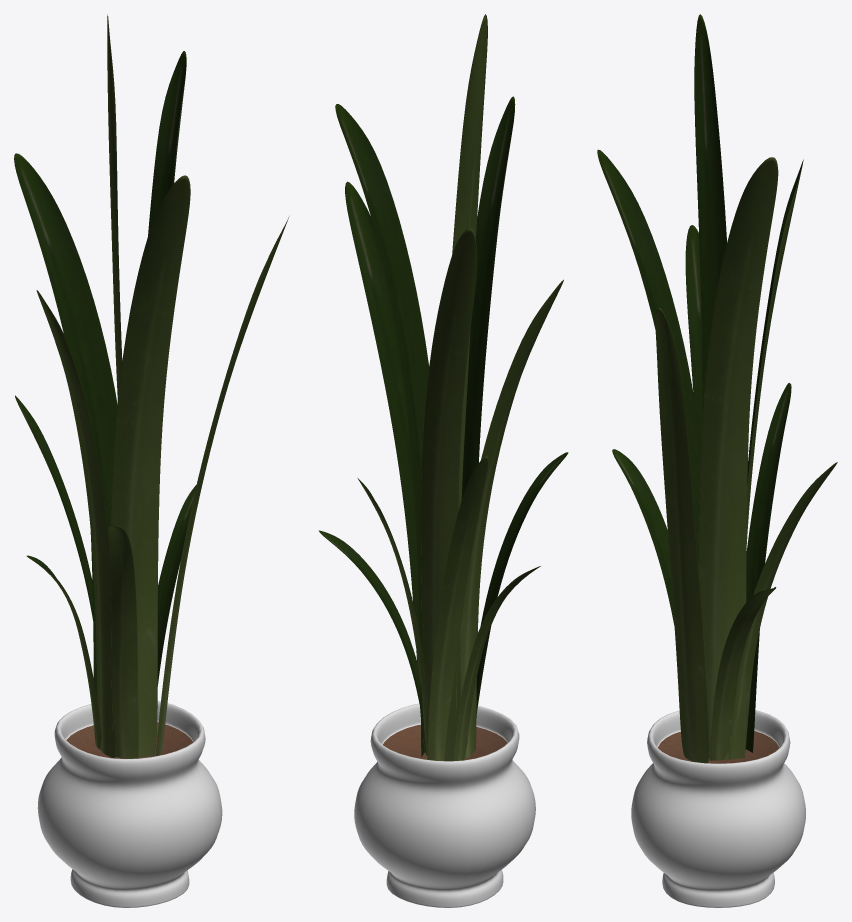
File: plant_obj.obj
The picture shows the model from 3 angles, left to right: view 1: azimuth 30°, elevation 25°; view 2: azimuth 150°, elevation 25°; view 3: azimuth 270°, elevation 25°; orthographic projection. The views are drawn at different scales.
Parts seen in each view (by area): view 1: Plant_leafs_Plane.030, Plant_jar_Cube.001; view 2: Plant_leafs_Plane.030, Plant_jar_Cube.001; view 3: Plant_leafs_Plane.030, Plant_jar_Cube.001.
Part boxes in pixels (box(x1,y1,x2,y2)): Plant_leafs_Plane.030: box(14, 14, 289, 758); Plant_jar_Cube.001: box(37, 700, 222, 907); Plant_leafs_Plane.030: box(318, 14, 568, 761); Plant_jar_Cube.001: box(354, 703, 535, 907); Plant_leafs_Plane.030: box(597, 14, 837, 763); Plant_jar_Cube.001: box(631, 710, 805, 907).
Bounding box in the file's own units: 0.4606 × 1.64 × 0.4182.
Materials: 3 (2 with a texture image).
